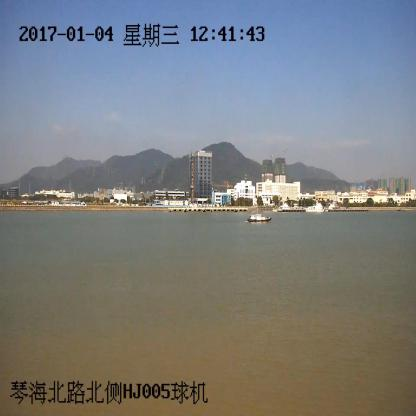Fishing Boat: (248, 212, 270, 222)
